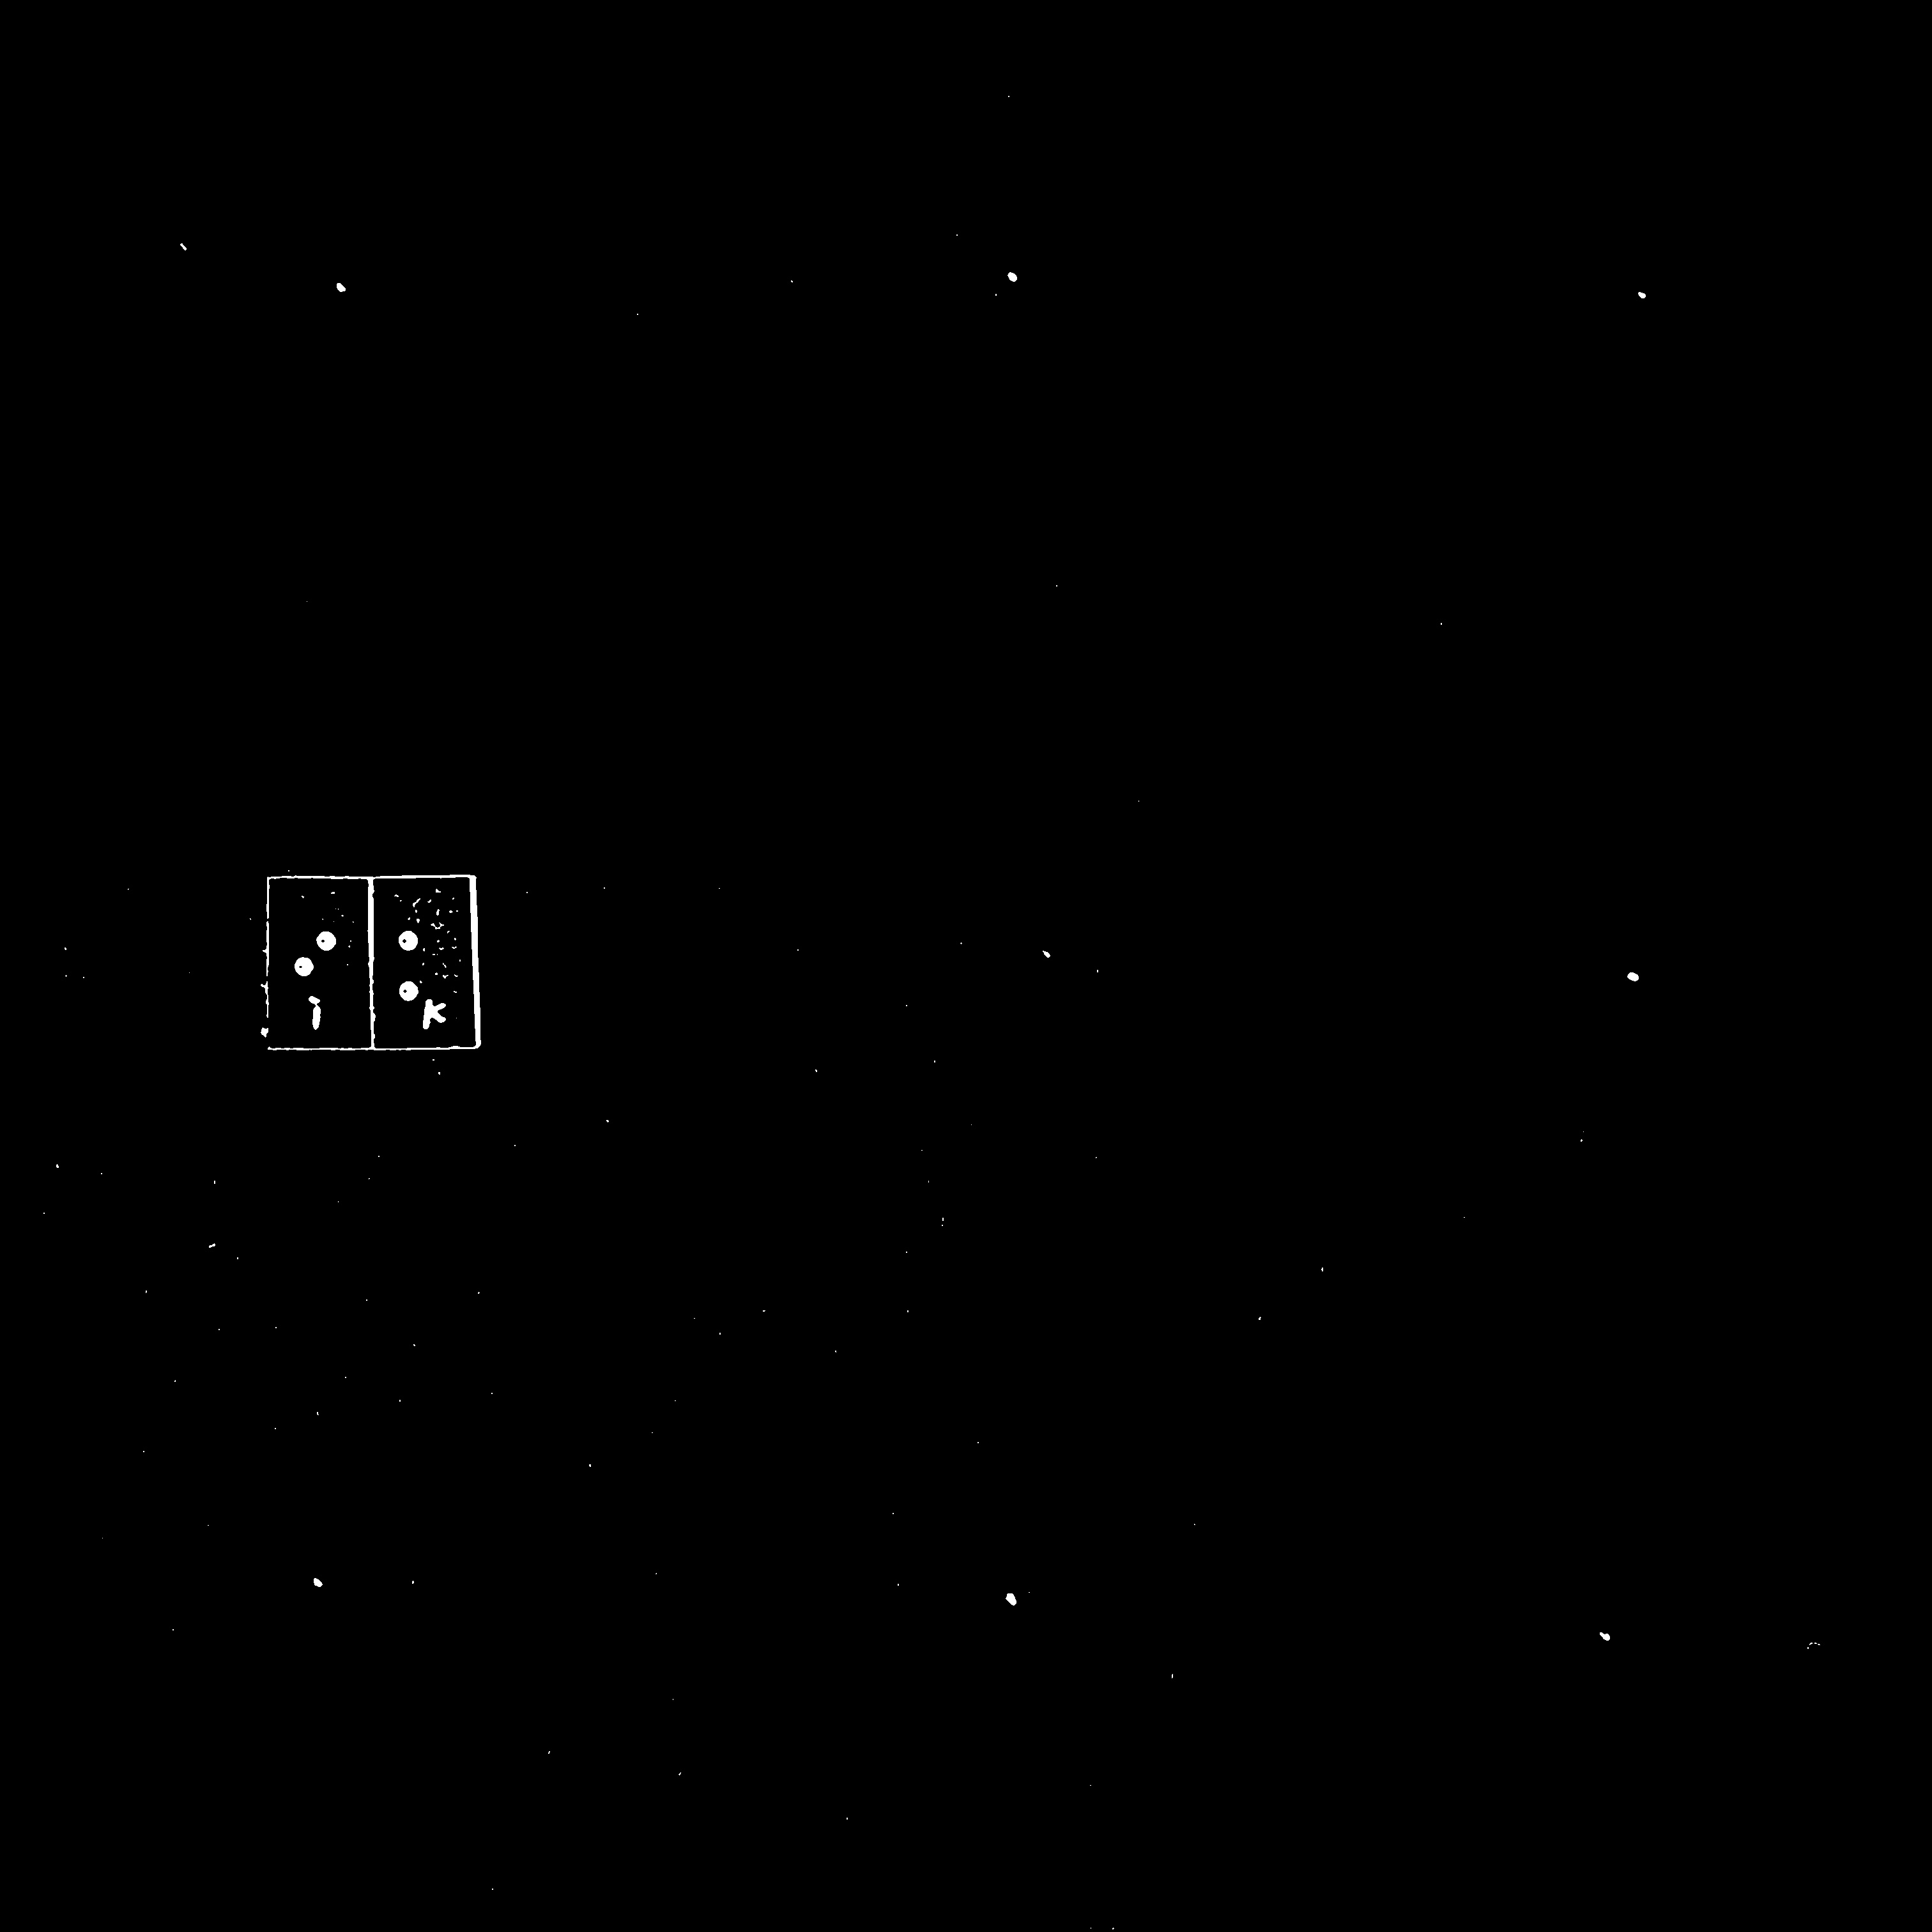i: (289, 919, 346, 998)
k: (392, 921, 456, 1004)
